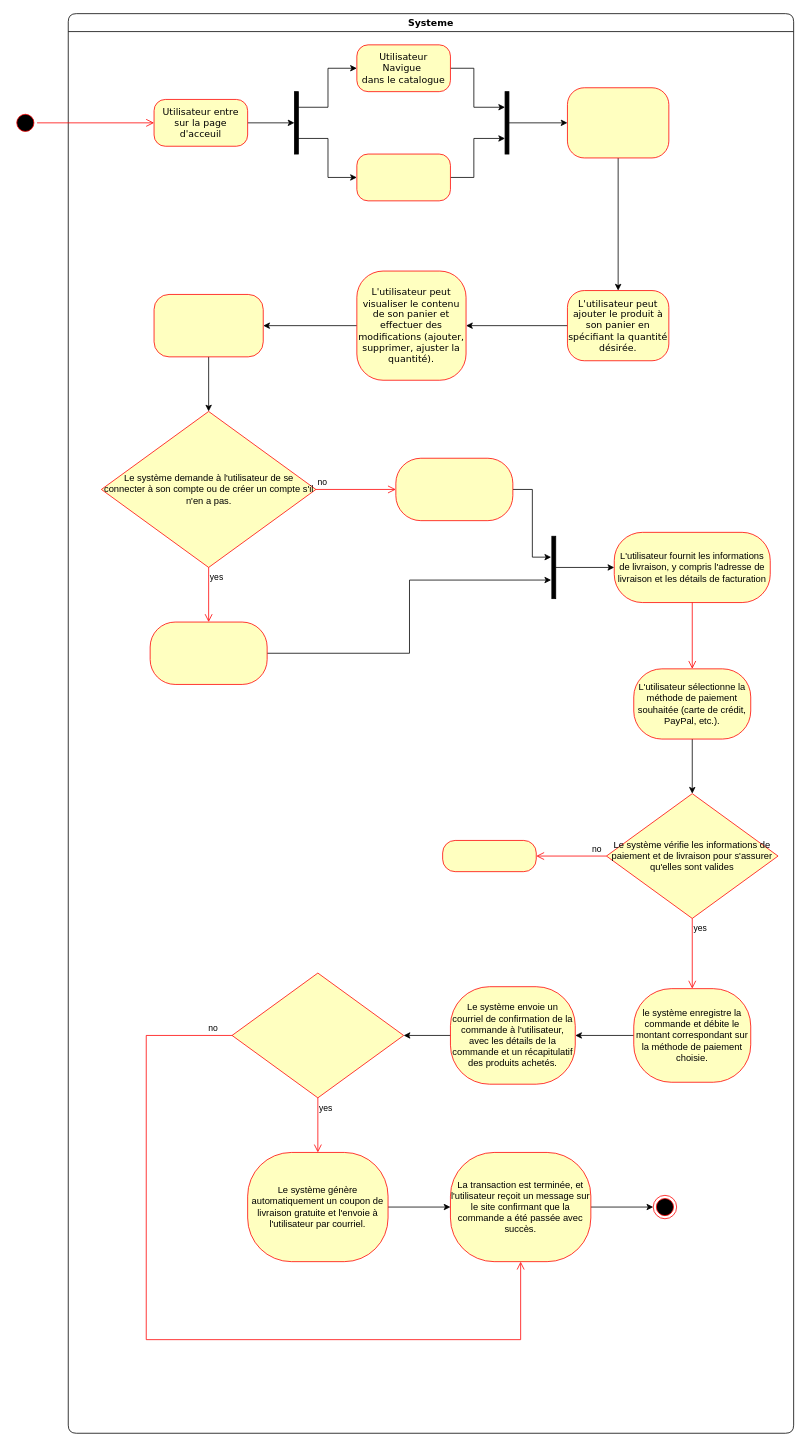
Image size: 807x1447. Some labels were removed from this diagram. The centre of each missing label's shape, as x and y in pixels:
"Appliquer des Filtres de Catégories si nécéssaire" goes at (403,177).
"L'utilisateur décide de passer à la caisse pour finaliser son achat." goes at (208,325).
"L'utilisateur fournit ses informations de connexion" goes at (208,652).
"L'utilisateur sélectionne un produit spécifique pour afficher ses détails." goes at (618,122).
"Le système vérifie si le montant total de la commande est supérieur à 100 $." goes at (317,1035).
"Message d'erreur" goes at (489,856).
"S'inscrit en fournissant les informations nécessaires" goes at (454,489).
